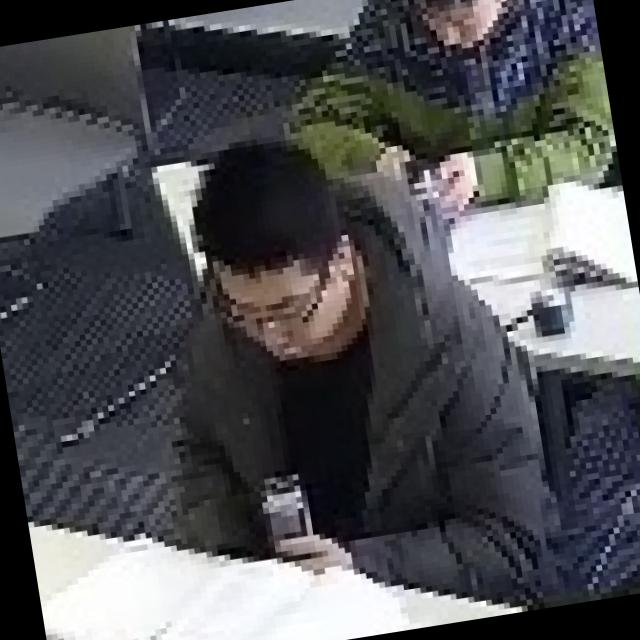drink: (91, 106, 562, 640)
phone: (259, 0, 625, 258)
